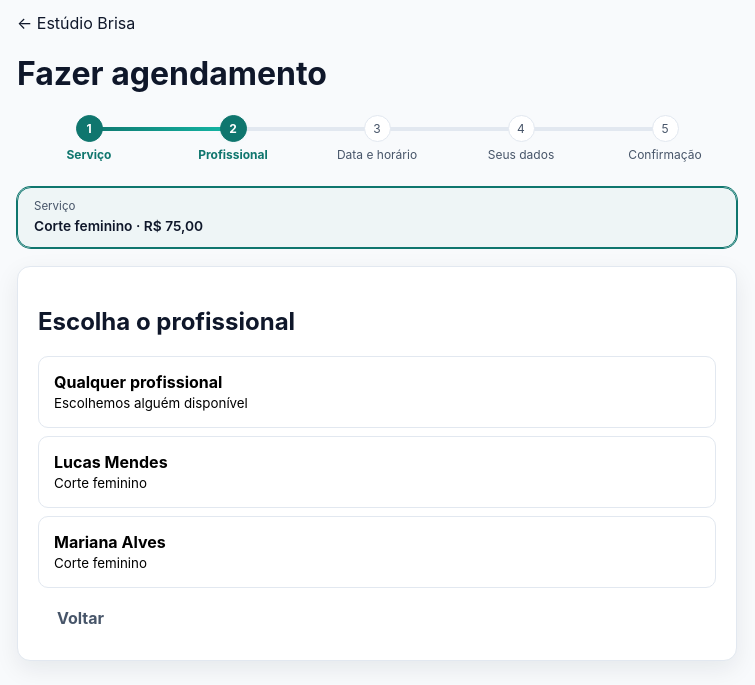
it: agendamento de um estabelecimento real › consulta os horários do profissional escolhido
Expected: the heading "Escolha o profissional" is shown, [38,307,295,336]
Click the button "Lucas Mendes" at (111, 462), box [38,436,716,508]
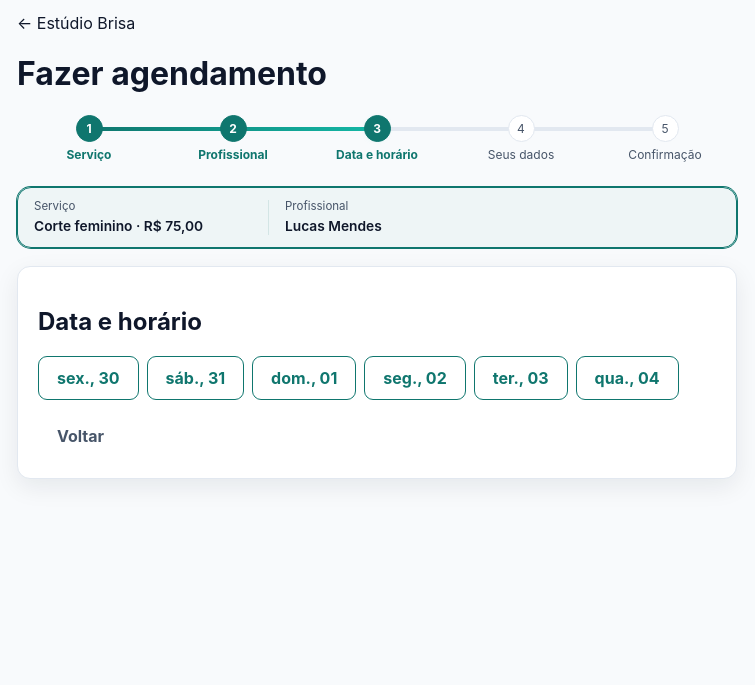
Click the button "sex., 30" at (88, 378), box [38,356,139,400]
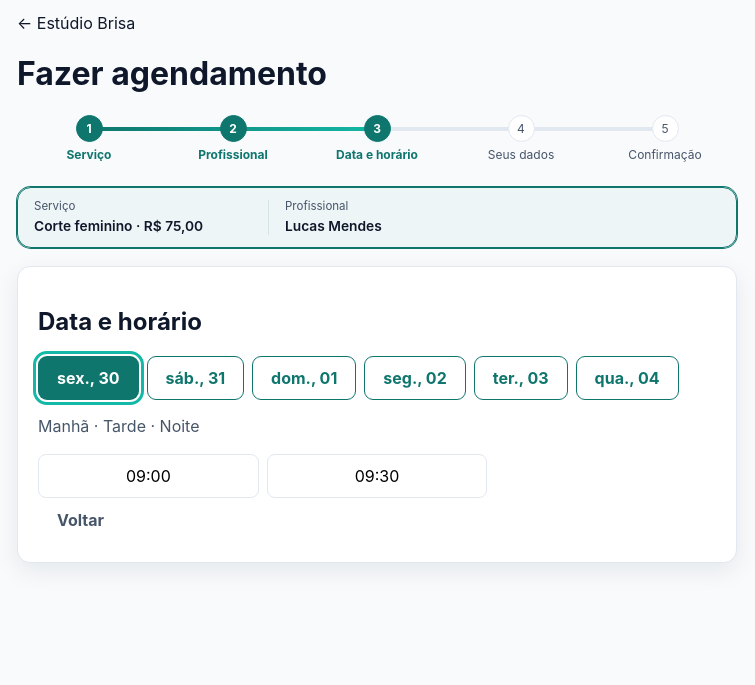
Now the button "09:30" is shown, box [267,454,487,498]
